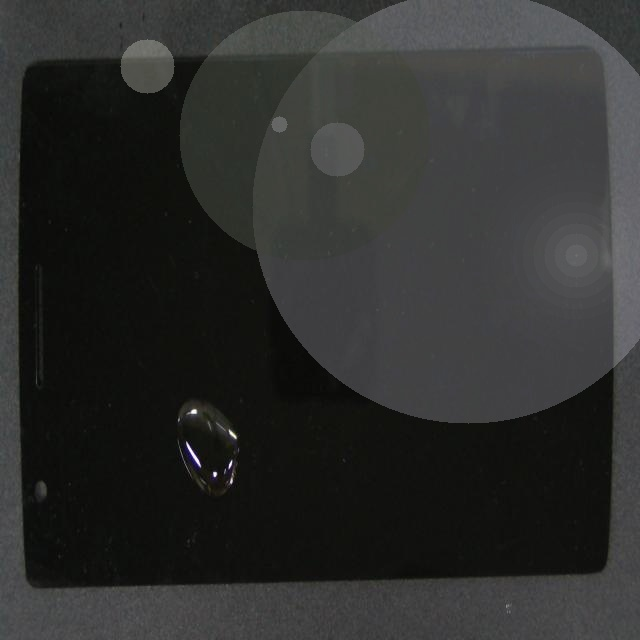oil: (104, 270, 344, 640)
